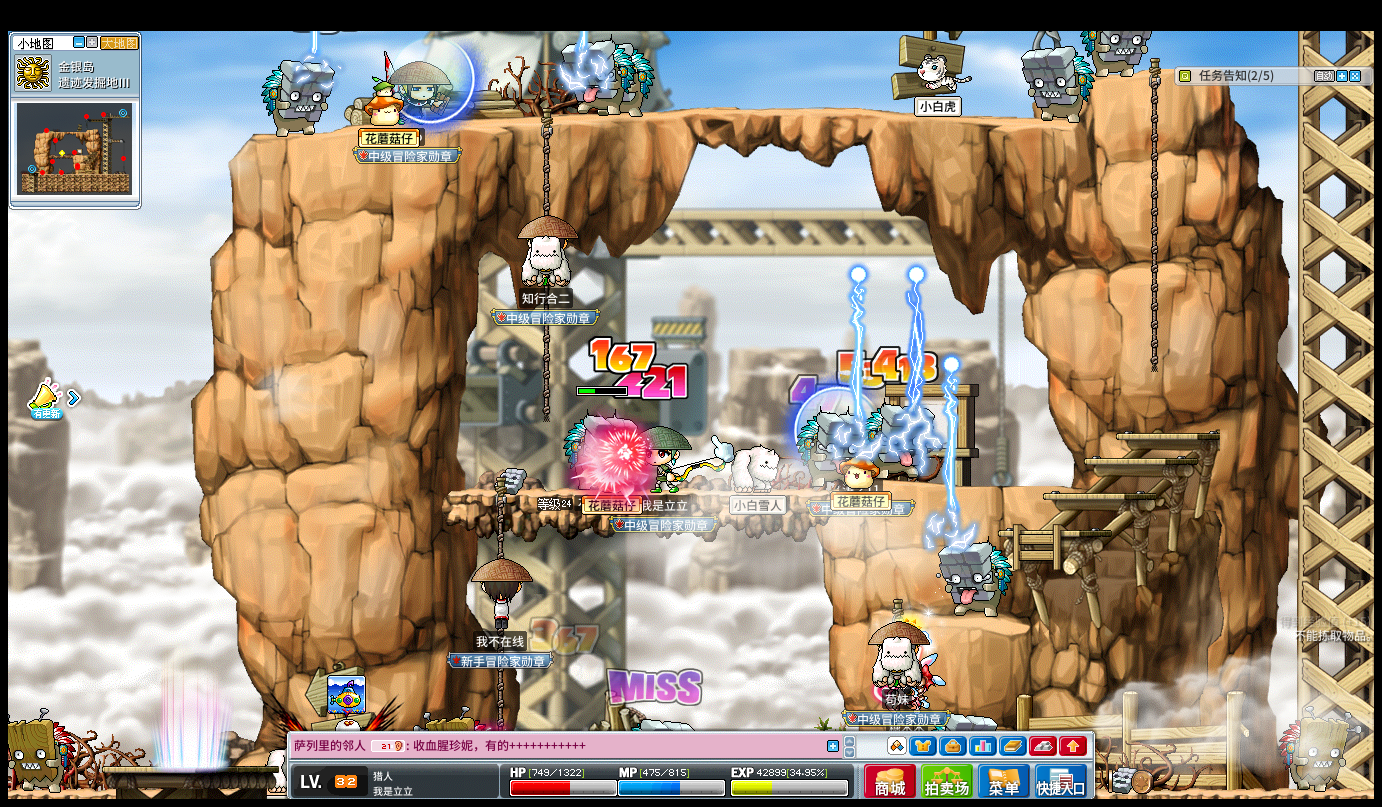floor: (257, 104, 1111, 139), (445, 488, 828, 500), (921, 613, 1032, 635), (897, 481, 1076, 492), (897, 480, 1086, 490), (1114, 429, 1221, 441), (1077, 456, 1194, 464), (1042, 492, 1154, 500), (1001, 528, 1108, 536)
monster: (1278, 710, 1356, 789), (259, 59, 335, 137), (3, 713, 77, 792), (561, 413, 636, 488), (938, 542, 1011, 618), (1020, 44, 1092, 121), (573, 37, 632, 116), (866, 403, 921, 476), (795, 411, 847, 488)
rope: (1146, 53, 1160, 377), (541, 106, 552, 216), (492, 481, 505, 560), (541, 320, 550, 422)
